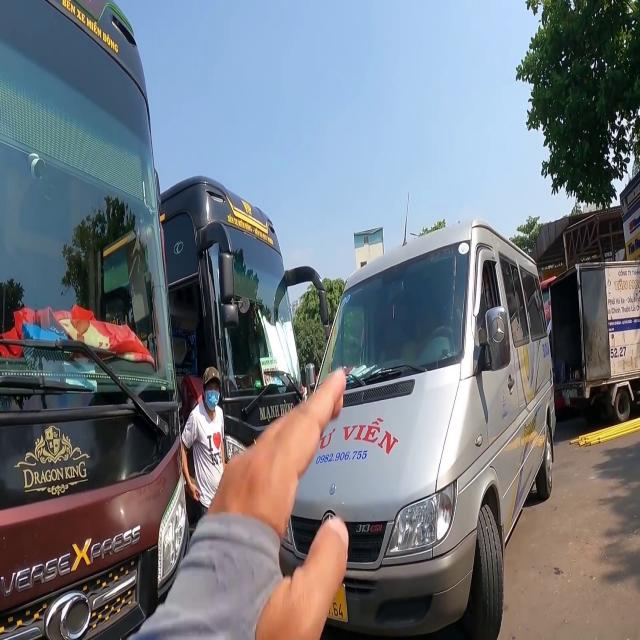bien_vang: (324, 582, 348, 623)
